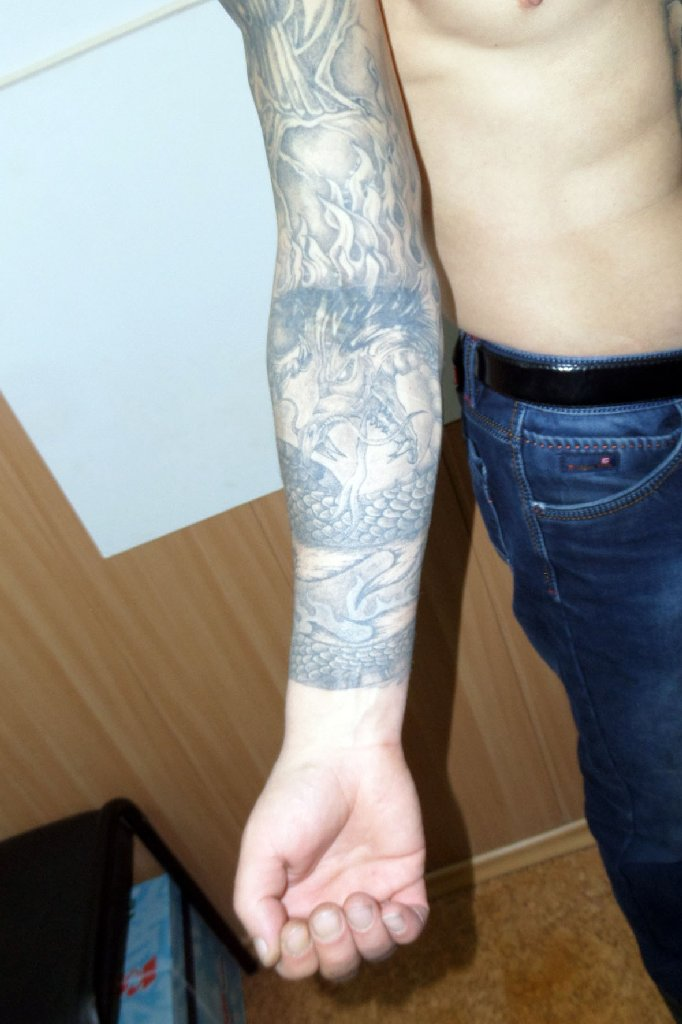tatu6_drakon: (265, 228, 450, 639)
